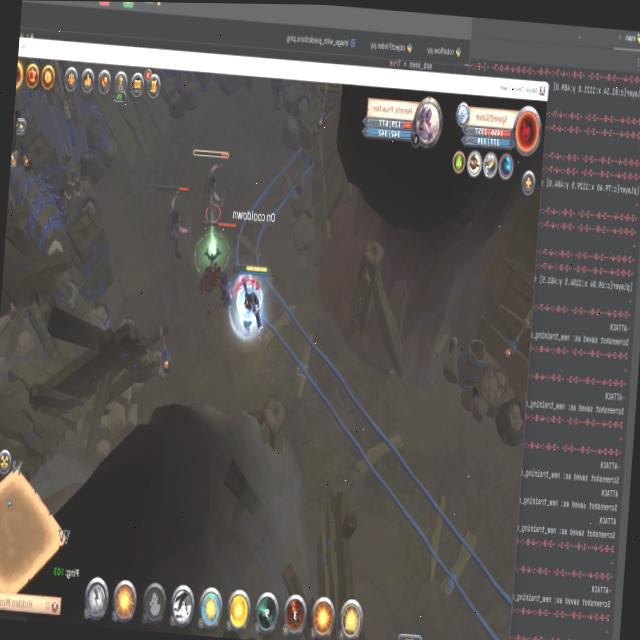ore: (192, 212, 239, 320), (186, 146, 230, 235), (150, 179, 194, 266)
red: (227, 260, 271, 340)
